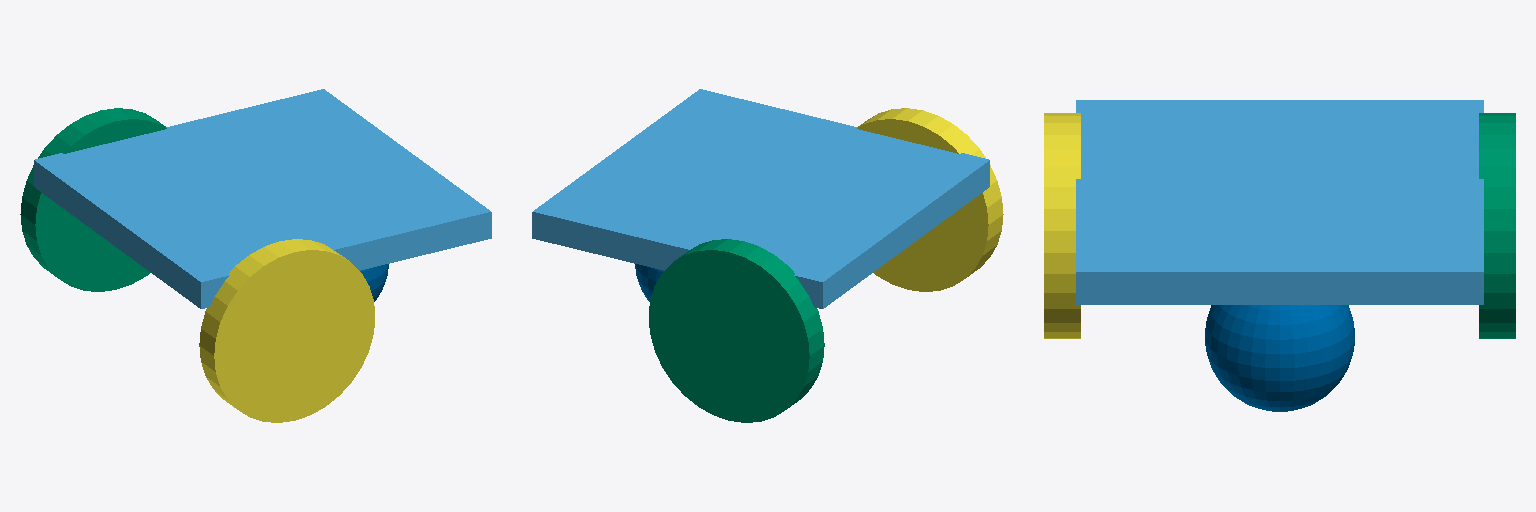
URDF robot description (bot3):
<?xml version="1.0" encoding="utf-8"?>
<!-- =================================================================================== -->
<!-- |    This document was autogenerated by xacro from bot.urdf.xacro                 | -->
<!-- |    EDITING THIS FILE BY HAND IS NOT RECOMMENDED                                 | -->
<!-- =================================================================================== -->
<robot name="bot3">
  <link name="base_link"/>
  <link name="base_link_inertia">
    <inertial>
      <origin rpy="0 0 0" xyz="0 0 0"/>
      <mass value="1"/>
      <inertia ixx="0.000538666666667" ixy="0" ixz="0" iyy="0.000538666666667" iyz="0" izz="0.00106666666667"/>
    </inertial>
    <collision>
      <origin rpy="0 0 0" xyz="0 0 0"/>
      <geometry>
        <box size="0.08 0.08 0.008"/>
      </geometry>
    </collision>
    <visual>
      <origin rpy="0 0 0" xyz="0 0 0"/>
      <geometry>
        <mesh filename="package://bot_description/meshes/bot3.dae"/>
      </geometry>
    </visual>
  </link>
  <link name="left_wheel">
    <inertial>
      <origin rpy="0 0 0" xyz="0 0 0"/>
      <mass value="0.3"/>
      <inertia ixx="4.8475e-05" ixy="0" ixz="0" iyy="4.8475e-05" iyz="0" izz="9.375e-05"/>
    </inertial>
    <collision>
      <origin rpy="0 0 0" xyz="0 0 0"/>
      <geometry>
        <cylinder length="0.008" radius="0.025"/>
      </geometry>
    </collision>
    <visual>
      <origin rpy="0 0 0" xyz="0 0 0"/>
      <geometry>
        <cylinder length="0.008" radius="0.025"/>
      </geometry>
    </visual>
  </link>
  <link name="right_wheel">
    <inertial>
      <origin rpy="0 0 0" xyz="0 0 0"/>
      <mass value="0.3"/>
      <inertia ixx="4.8475e-05" ixy="0" ixz="0" iyy="4.8475e-05" iyz="0" izz="9.375e-05"/>
    </inertial>
    <collision>
      <origin rpy="0 0 0" xyz="0 0 0"/>
      <geometry>
        <cylinder length="0.008" radius="0.025"/>
      </geometry>
    </collision>
    <visual>
      <origin rpy="0 0 0" xyz="0 0 0"/>
      <geometry>
        <cylinder length="0.008" radius="0.025"/>
      </geometry>
    </visual>
  </link>
  <link name="caster_wheel">
    <inertial>
      <origin rpy="0 0 0" xyz="0 0 0"/>
      <mass value="3"/>
      <inertia ixx="0.000333333333333" ixy="0" ixz="0" iyy="0.000333333333333" iyz="0" izz="0.000333333333333"/>
    </inertial>
    <collision>
      <origin rpy="0 0 0" xyz="0 0 0"/>
      <geometry>
        <sphere radius="0.0166666666667"/>
      </geometry>
    </collision>
    <visual>
      <origin rpy="0 0 0" xyz="0 0 0"/>
      <geometry>
        <sphere radius="0.0166666666667"/>
      </geometry>
    </visual>
  </link>
  <joint name="base_link_inertia_joint" type="fixed">
    <parent link="base_link"/>
    <child link="base_link_inertia"/>
    <origin rpy="0 0 0" xyz="0 0 0"/>
  </joint>
  <joint name="left_wheel_joint" type="continuous">
    <parent link="base_link"/>
    <child link="left_wheel"/>
    <origin rpy="0 1.570795 1.570795" xyz="-0.02 0.048  -0.015"/>
    <axis rpy="0 0 0" xyz="0 0 1"/>
  </joint>
  <joint name="right_wheel_joint" type="continuous">
    <parent link="base_link"/>
    <child link="right_wheel"/>
    <origin rpy="0 1.570795 1.570795" xyz="-0.02 -0.048  -0.015"/>
    <axis rpy="0 0 0" xyz="0 0 1"/>
  </joint>
  <joint name="caster_wheel_joint" type="continuous">
    <parent link="base_link"/>
    <child link="caster_wheel"/>
    <origin rpy="0 0 0" xyz="0.02 0 -0.0233333333333"/>
    <axis rpy="0 0 0" xyz="0 1 0"/>
  </joint>
  <gazebo>
    <plugin filename="libgazebo_ros_diff_drive.so" name="differential_drive_controller">
      <alwaysOn>true</alwaysOn>
      <updateRate>20</updateRate>
      <leftJoint>left_wheel_joint</leftJoint>
      <rightJoint>right_wheel_joint</rightJoint>
      <wheelSeparation>0.096</wheelSeparation>
      <wheelDiameter>0.05</wheelDiameter>
      <torque>0.001</torque>
      <commandTopic>cmd_vel</commandTopic>
      <odometryTopic>odom</odometryTopic>
      <odometryFrame>odom</odometryFrame>
      <robotBaseFrame>base_link</robotBaseFrame>
    </plugin>
  </gazebo>
</robot>

--- Render facts (derived) ---
3 views of the same robot in one strip: view 1: azimuth 30°, elevation 25°; view 2: azimuth 150°, elevation 25°; view 3: azimuth 270°, elevation 25° (orthographic).
Robot: bot3 — 5 links, 4 joints (3 continuous, 1 fixed); root link base_link; default pose: every joint at zero.
Visible links, largest first — view 1: base_link_inertia, right_wheel, left_wheel, caster_wheel; view 2: base_link_inertia, left_wheel, right_wheel, caster_wheel; view 3: base_link_inertia, caster_wheel, left_wheel, right_wheel.
Boxes of the visible links, x1=… form: base_link_inertia: x1=34, y1=89, x2=491, y2=308; right_wheel: x1=199, y1=239, x2=374, y2=422; left_wheel: x1=20, y1=108, x2=166, y2=291; caster_wheel: x1=360, y1=264, x2=388, y2=301; base_link_inertia: x1=532, y1=89, x2=989, y2=308; left_wheel: x1=649, y1=239, x2=824, y2=422; right_wheel: x1=857, y1=108, x2=1003, y2=291; caster_wheel: x1=635, y1=264, x2=663, y2=301; base_link_inertia: x1=1076, y1=100, x2=1483, y2=304; caster_wheel: x1=1205, y1=305, x2=1354, y2=411; left_wheel: x1=1479, y1=113, x2=1515, y2=338; right_wheel: x1=1044, y1=113, x2=1080, y2=338.
Size in the robot's own frame: 0.09 by 0.104 by 0.05 metres.
Meshes: 1 distinct files referenced, 1 mesh visuals loaded (1 Collada DAE).